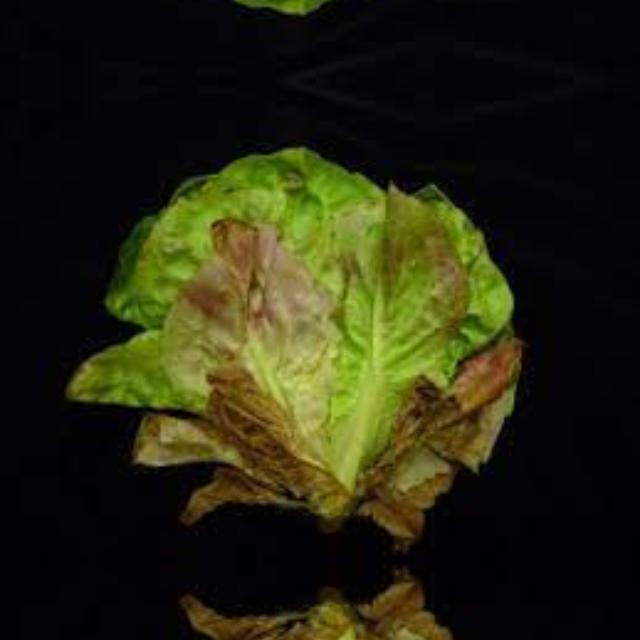Downy_mildew: (117, 160, 519, 532), (117, 587, 519, 640)
